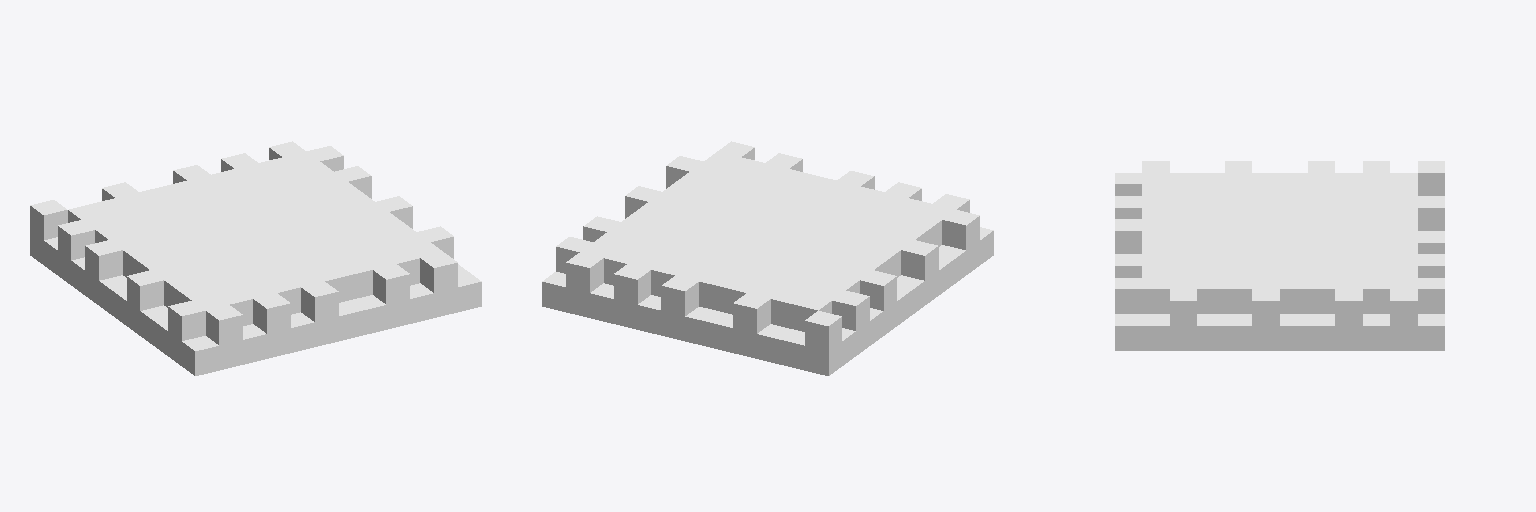
The model's file is autumnpanel.obj.
3 renders of one model, left to right at view 1: azimuth 30°, elevation 25°; view 2: azimuth 150°, elevation 25°; view 3: azimuth 270°, elevation 25°, orthographic.
Visible parts, largest first — view 1: autumnpanel; view 2: autumnpanel; view 3: autumnpanel.
Boxes of the visible parts, <box> form: autumnpanel: <box>30,141,481,375</box>; autumnpanel: <box>542,141,993,375</box>; autumnpanel: <box>1115,161,1444,350</box>.
Bounding box in the file's own units: 12 × 2 × 12.